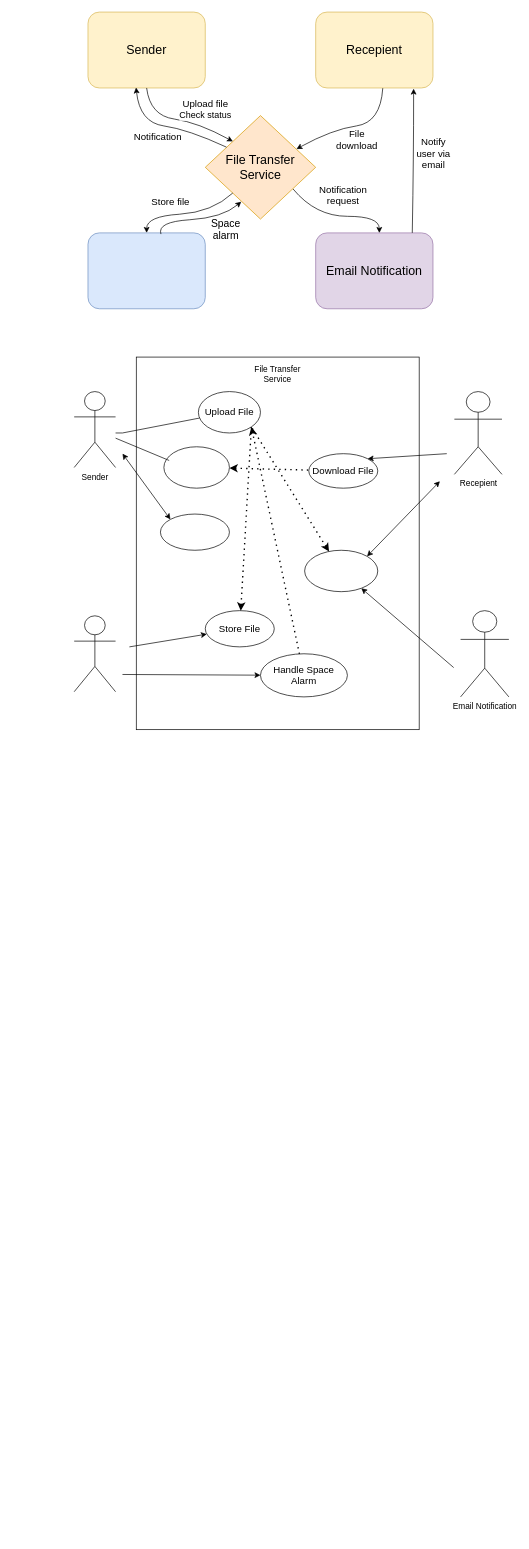
This 529x1549 diagram has some shape labels left out. The centre of each missing label's shape, as x and y in pixels:
"Check Status" belongs at [196,467].
"cloud" belongs at [94,653].
"Cloud(FileStorage)" belongs at [146,270].
"Notify Recipient" belongs at [341,571].
"Notify Sender" belongs at [194,531].
